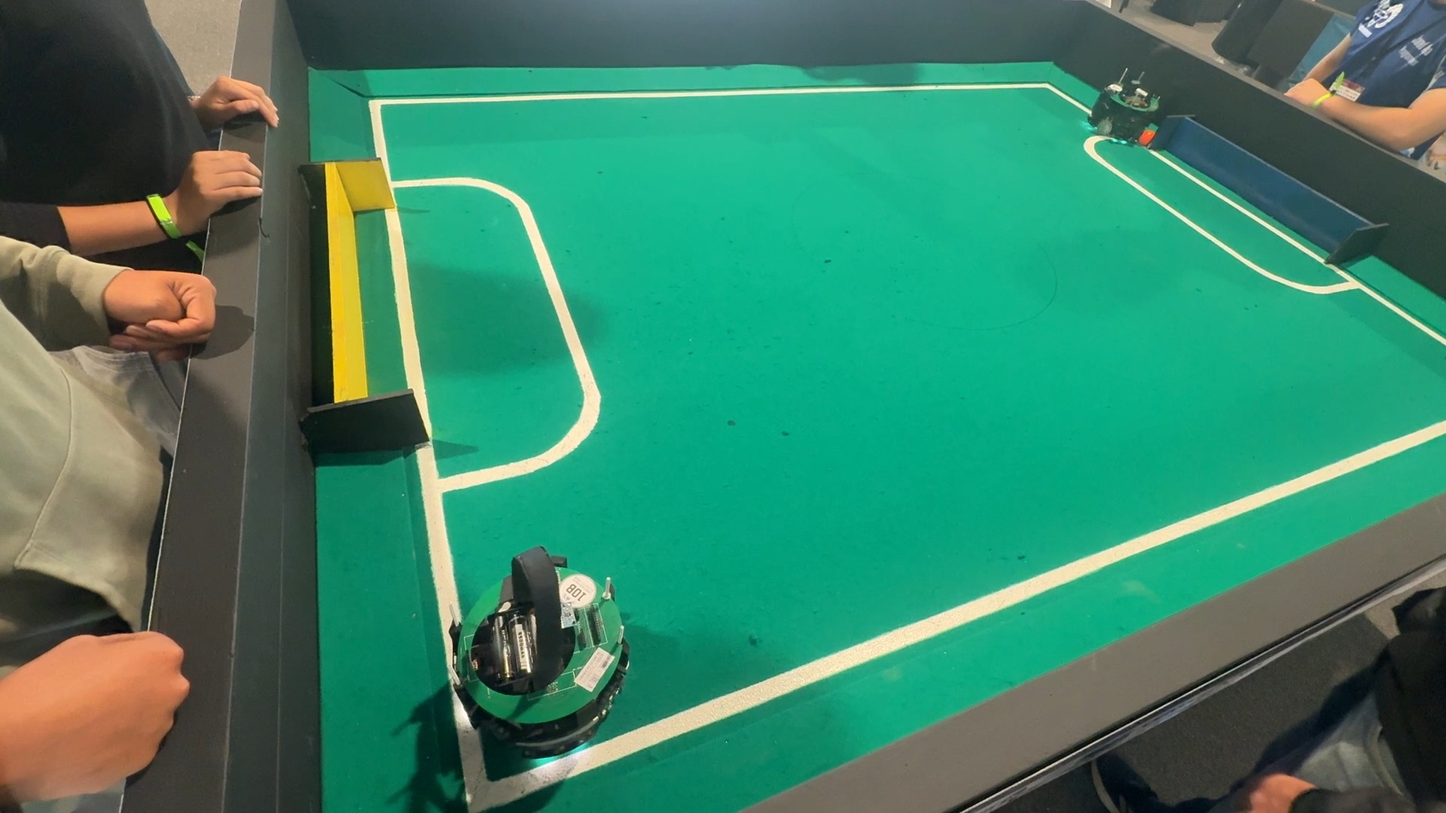Robot: (409, 532, 662, 813), (1084, 53, 1179, 153)
